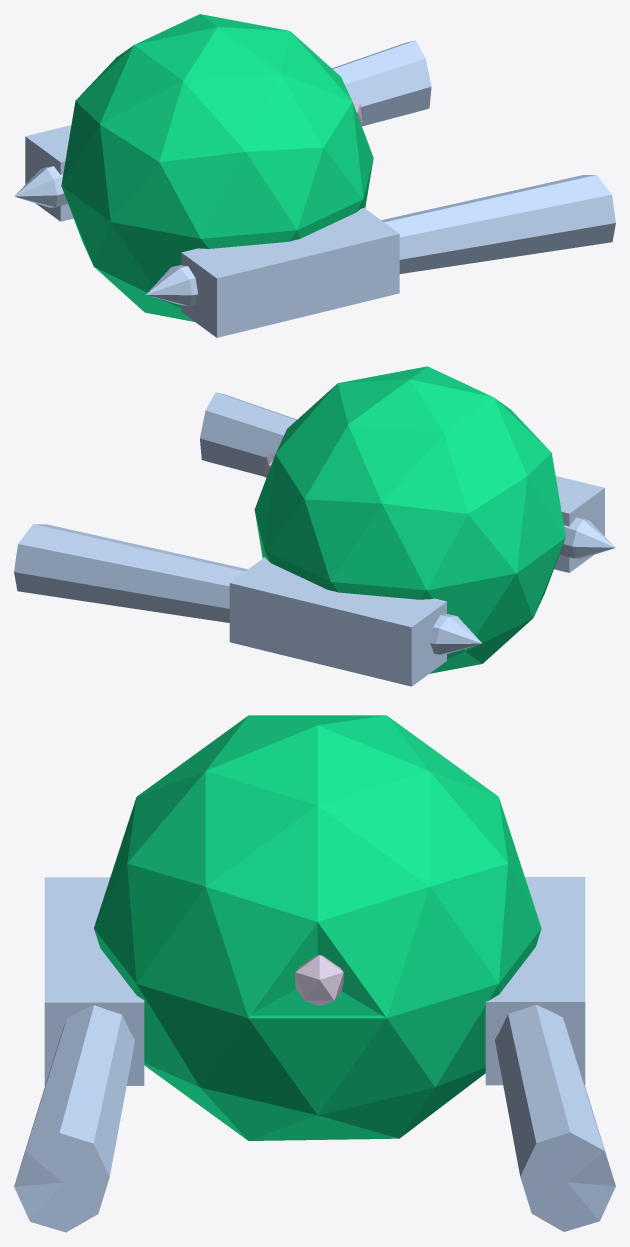
Rendered from offbrand_dalek_thing616.glb.
The picture shows the model from 3 angles, top to bottom: view 1: azimuth 30°, elevation 25°; view 2: azimuth 150°, elevation 25°; view 3: azimuth 270°, elevation 25°; orthographic projection. The views are drawn at different scales.
Visible parts, largest first — view 1: Icosphere, Cylinder; view 2: Icosphere, Cylinder; view 3: Icosphere, Cylinder, Icosphere.001.
Part boxes in pixels (x1,y1,x2,y2): Icosphere: (61,14,373,321); Cylinder: (14,40,615,337); Icosphere: (254,366,565,673); Cylinder: (14,392,615,686); Icosphere: (94,715,541,1140); Cylinder: (14,877,615,1232); Icosphere.001: (295,955,343,1005).
Size of the model in its own units: 1.86 by 1.19 by 1.6.
